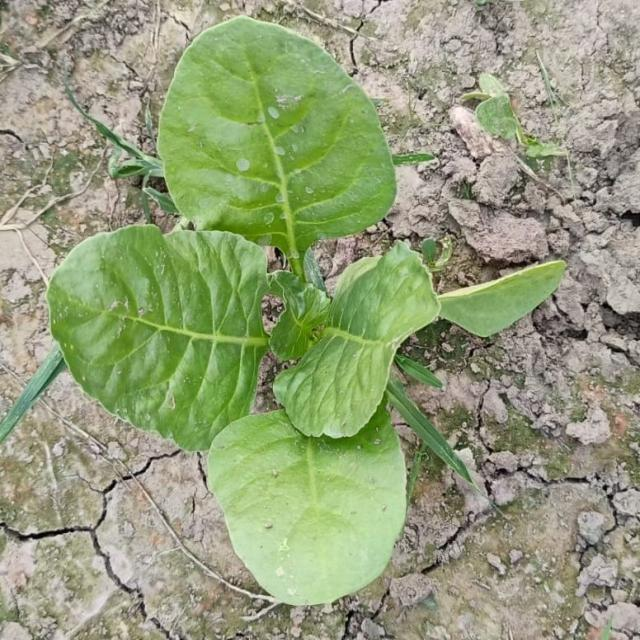plant: (0, 16, 564, 605)
